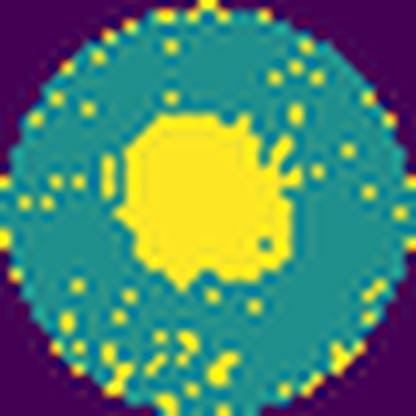Center: (115, 116, 305, 295)
